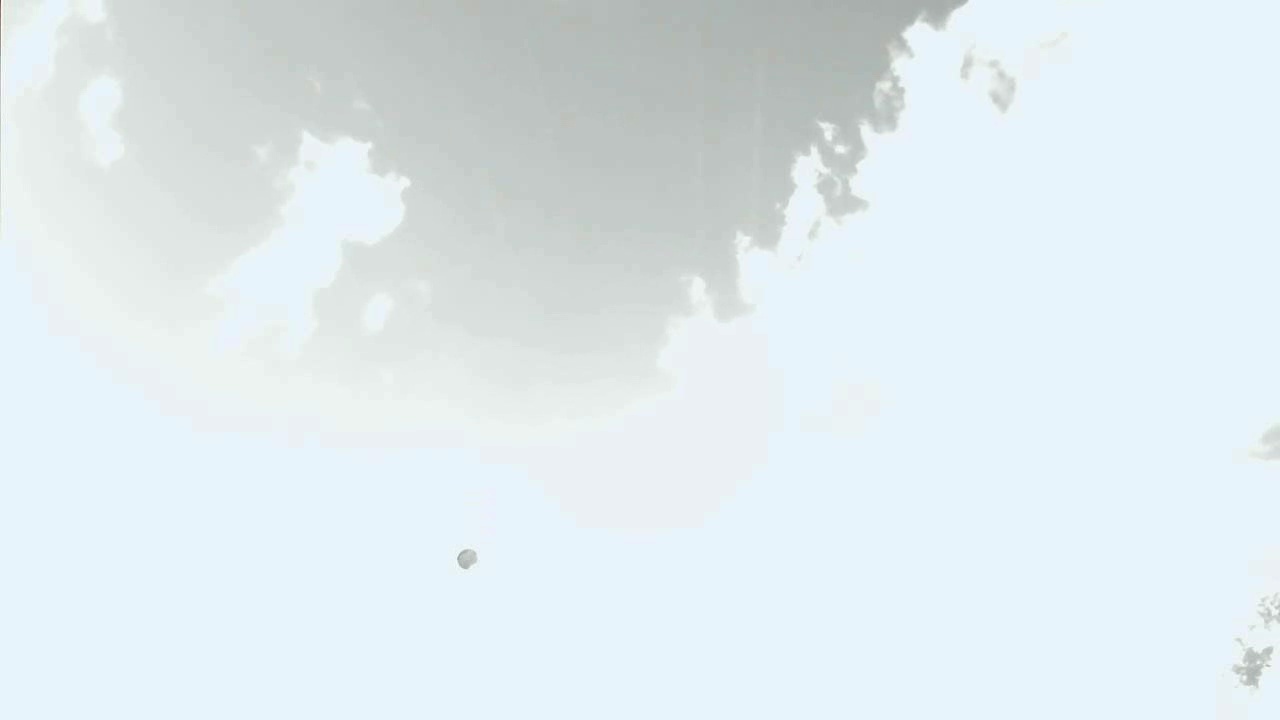Football-Spotter: (457, 549, 477, 568)
